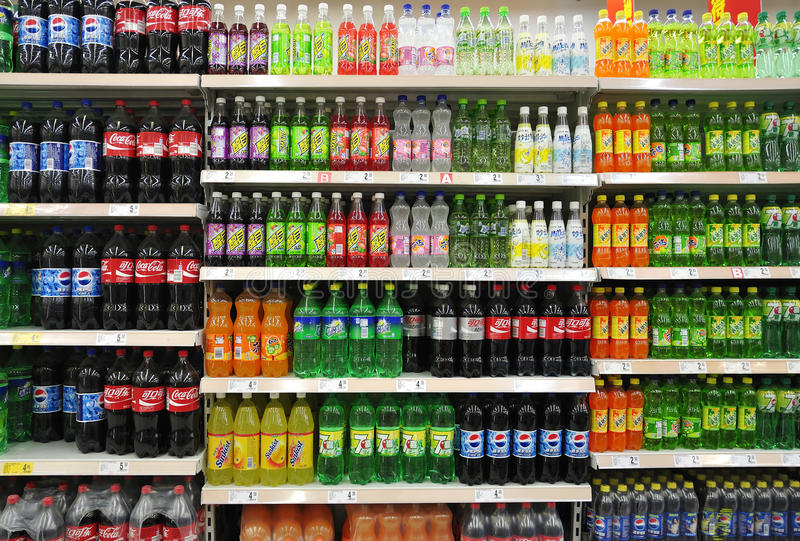coke: (68, 489, 201, 541), (166, 346, 200, 456), (133, 345, 164, 456), (104, 219, 134, 330), (104, 103, 138, 195), (137, 228, 168, 323), (138, 97, 166, 198), (174, 99, 200, 203), (539, 287, 568, 373), (106, 358, 131, 454), (175, 227, 198, 327), (181, 4, 213, 71), (490, 292, 515, 376), (569, 290, 593, 370), (148, 1, 172, 73), (116, 1, 141, 65), (519, 287, 537, 366)
